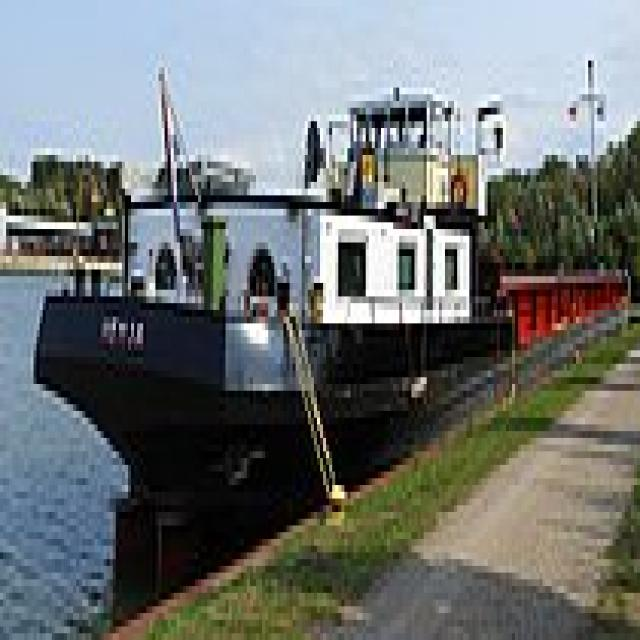Cargo: (24, 40, 625, 613)
